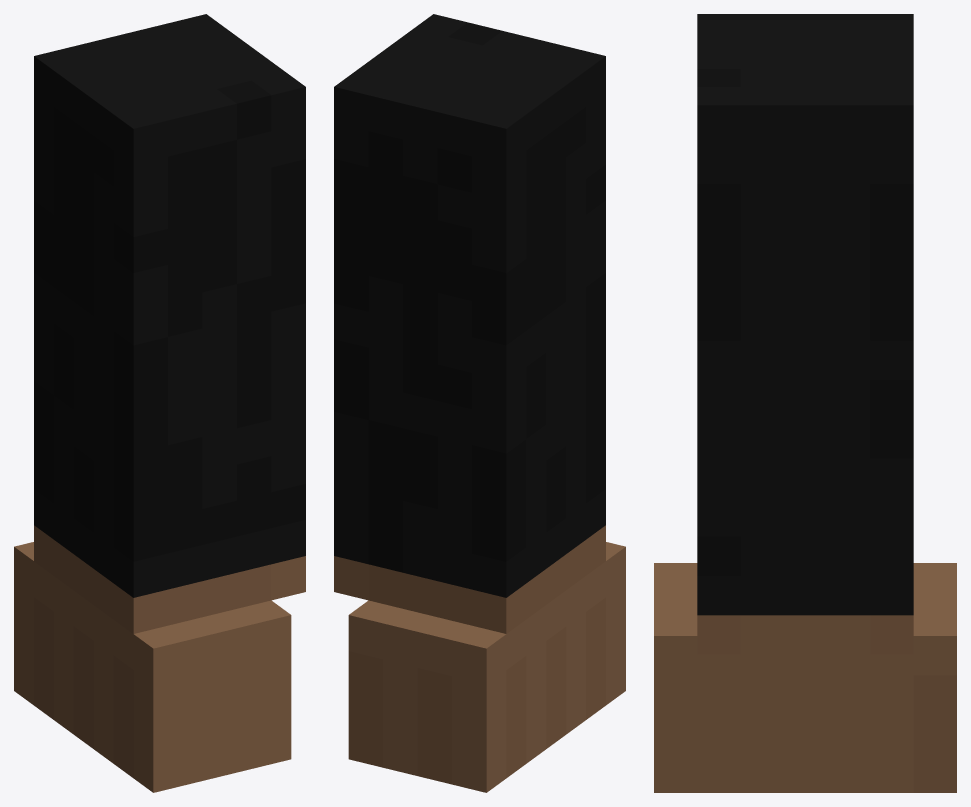
Rendered from ohrannik.obj.
3 renders of one model, left to right at view 1: azimuth 30°, elevation 25°; view 2: azimuth 150°, elevation 25°; view 3: azimuth 270°, elevation 25°, orthographic. The views are drawn at different scales.
Size of the model in its own units: 0.5 by 1.8 by 0.7.
Materials: 1 (1 with a texture image).
